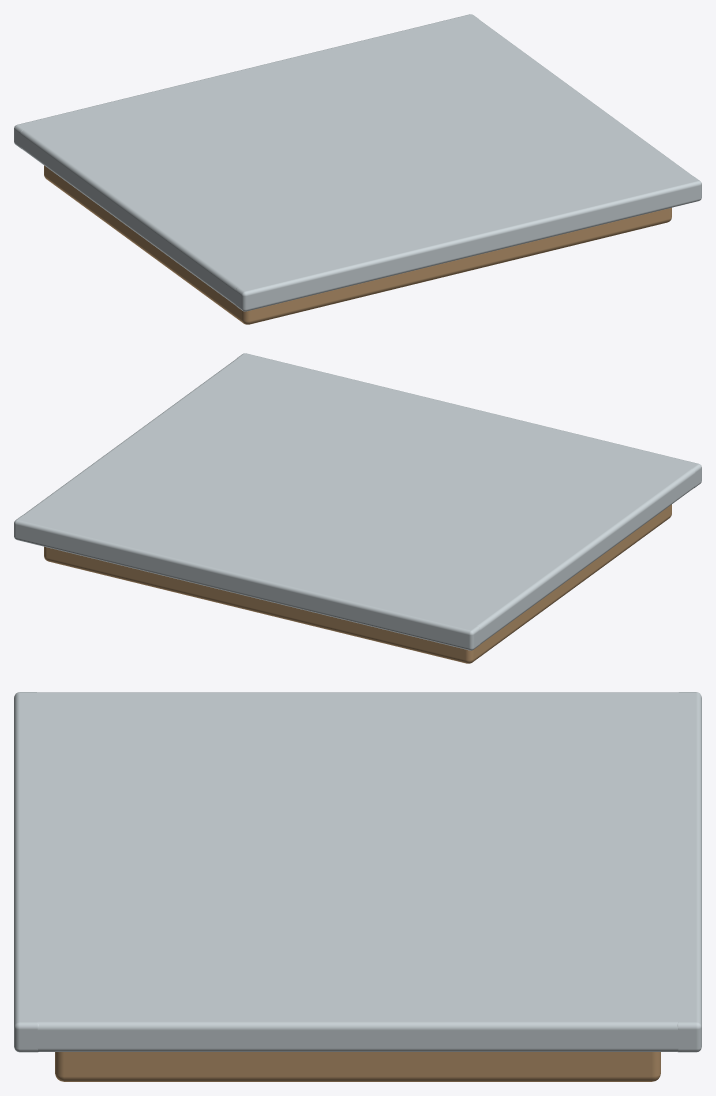
File: beekeeping-and-honey-farm-weatherproof-hive-roof-aa922c39__30703.glb
3 renders of one model, top to bottom at view 1: azimuth 30°, elevation 25°; view 2: azimuth 150°, elevation 25°; view 3: azimuth 270°, elevation 25°, orthographic. The views are drawn at different scales.
Visible parts, largest first — view 1: weatherproof-hive-roof; view 2: weatherproof-hive-roof; view 3: weatherproof-hive-roof.
Part boxes in pixels (left/top/right/bottom): weatherproof-hive-roof: left=14, top=14, right=701, bottom=324; weatherproof-hive-roof: left=14, top=353, right=701, bottom=663; weatherproof-hive-roof: left=14, top=692, right=701, bottom=1081.
Size of the model in its own units: 0.6 by 0.06 by 0.522.
